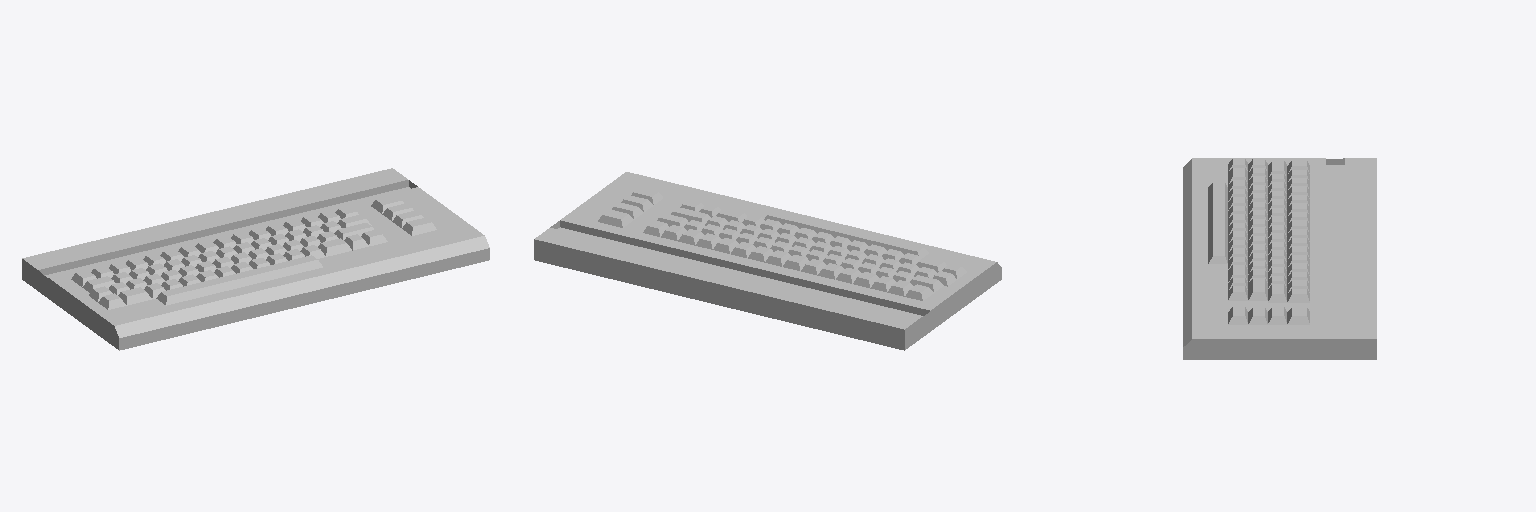
File: pc_keyboard_mp_1.obj
3 renders of one model, left to right at view 1: azimuth 30°, elevation 25°; view 2: azimuth 150°, elevation 25°; view 3: azimuth 270°, elevation 25°, orthographic.
Parts seen in each view (by area): view 1: pc_keyboard_mp_1; view 2: pc_keyboard_mp_1; view 3: pc_keyboard_mp_1.
Boxes of the visible parts, <box> form: pc_keyboard_mp_1: <box>22,168,489,350</box>; pc_keyboard_mp_1: <box>534,172,1001,350</box>; pc_keyboard_mp_1: <box>1183,158,1376,359</box>.
Bounding box in the file's own units: 0.55 × 0.0396 × 0.25.